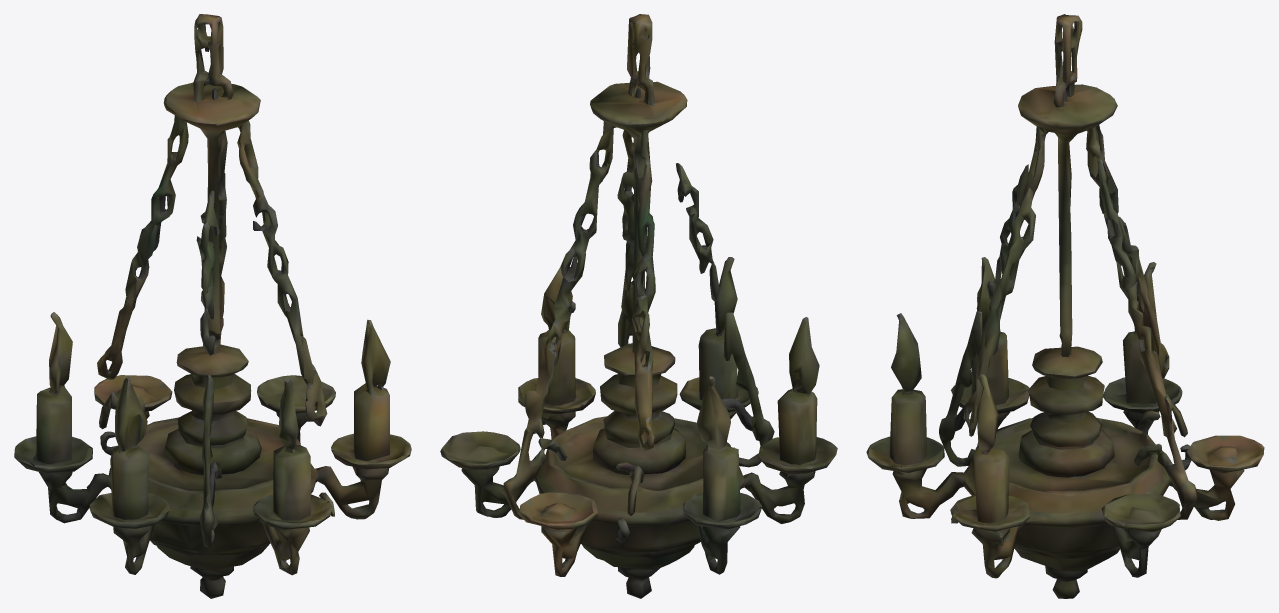
The model's file is simple-bronze-chandelier-v001.glb.
3 renders of one model, left to right at view 1: azimuth 30°, elevation 25°; view 2: azimuth 150°, elevation 25°; view 3: azimuth 270°, elevation 25°, orthographic.
Parts seen in each view (by area): view 1: simple-bronze-chandelier; view 2: simple-bronze-chandelier; view 3: simple-bronze-chandelier.
Part boxes in pixels (<box>): simple-bronze-chandelier: <box>14,14,411,598</box>; simple-bronze-chandelier: <box>440,14,837,598</box>; simple-bronze-chandelier: <box>866,14,1264,598</box>.
Size of the model in its own units: 0.5134 by 0.9178 by 0.5702.
1 material, 1 textured.
